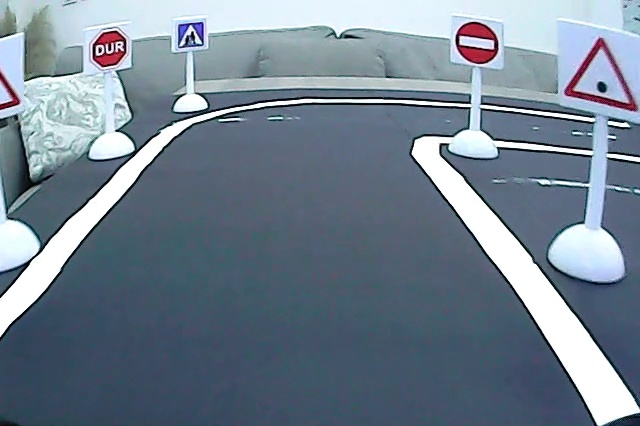do not enter: (453, 17, 502, 67)
green light: (560, 29, 640, 114)
school crossing: (174, 20, 206, 50)
stop sign: (88, 26, 130, 71)
